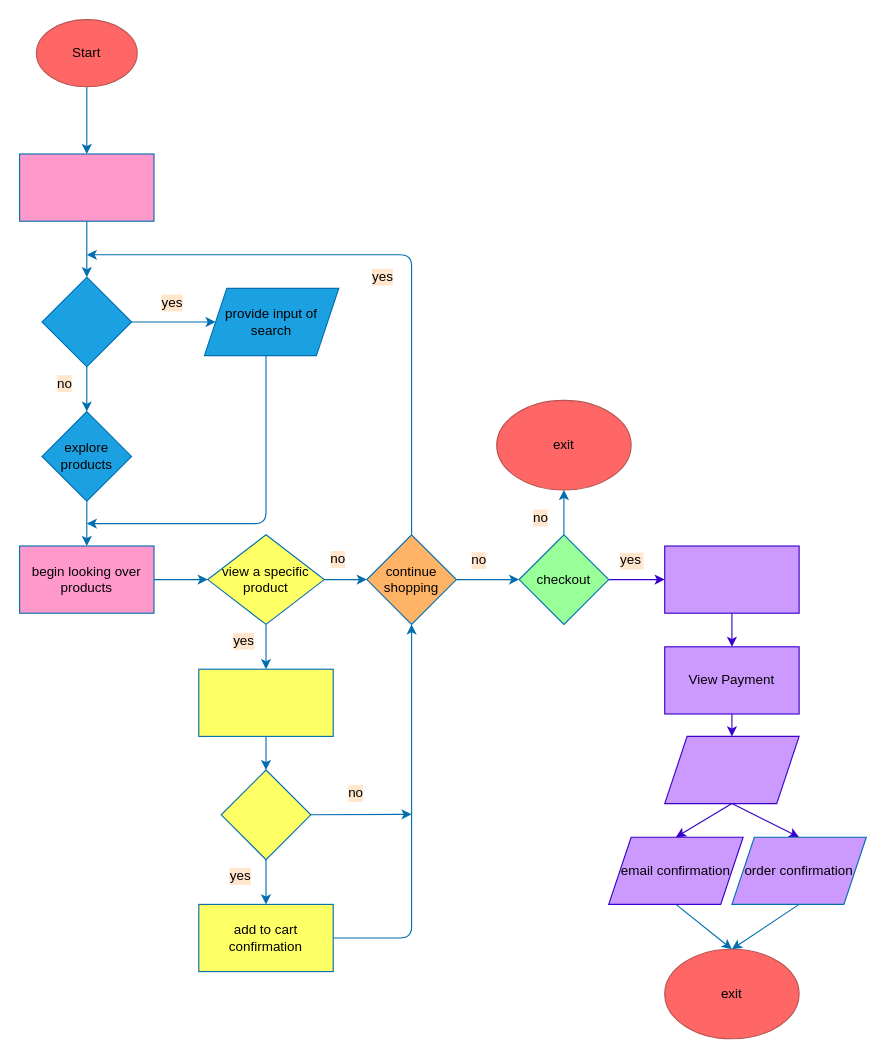
Image size: 886x1058. Some labels were removed from this diagram. The centre of each missing label's shape, as x and y in pixels:
add to cart: (265,814)
input payment info: (731,769)
open product webpage: (265,702)
search for a product: (86,321)
User enters website: (86,187)
View Cart: (731,579)
